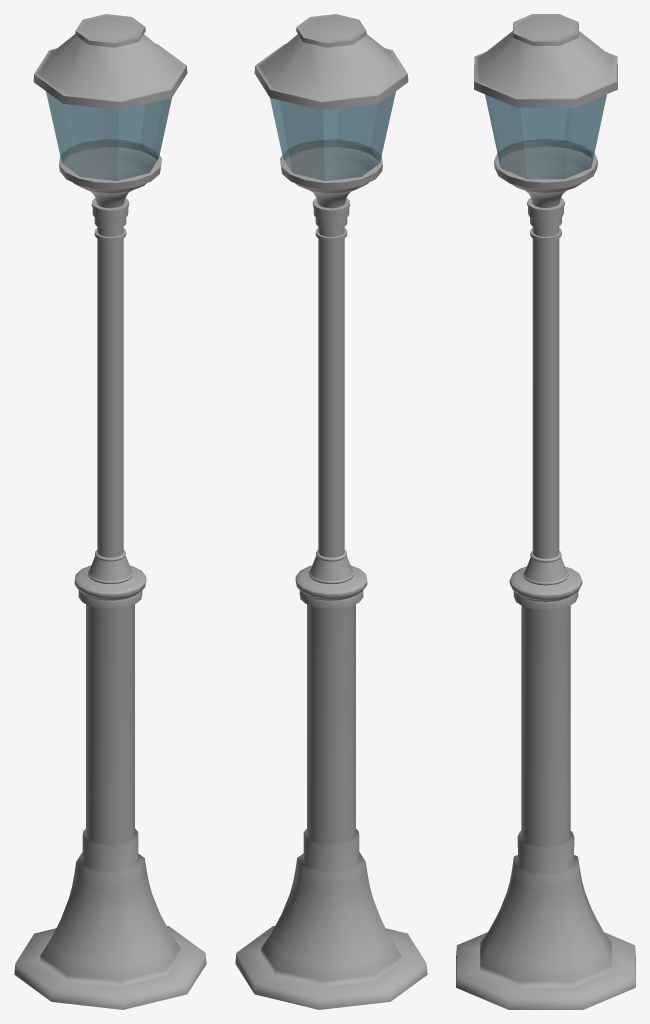
File: Lamppost.fbx
3 renders of one model, left to right at view 1: azimuth 30°, elevation 25°; view 2: azimuth 150°, elevation 25°; view 3: azimuth 270°, elevation 25°, orthographic.
Parts seen in each view (by area): view 1: LampPost_NoUV; view 2: LampPost_NoUV; view 3: LampPost_NoUV.
Boxes of the visible parts, x1,y1,x2,y2 form: LampPost_NoUV: (14,14,206,1009); LampPost_NoUV: (235,14,427,1009); LampPost_NoUV: (456,14,635,1009).
Bounding box in the file's own units: 67.16 × 391 × 67.16.
